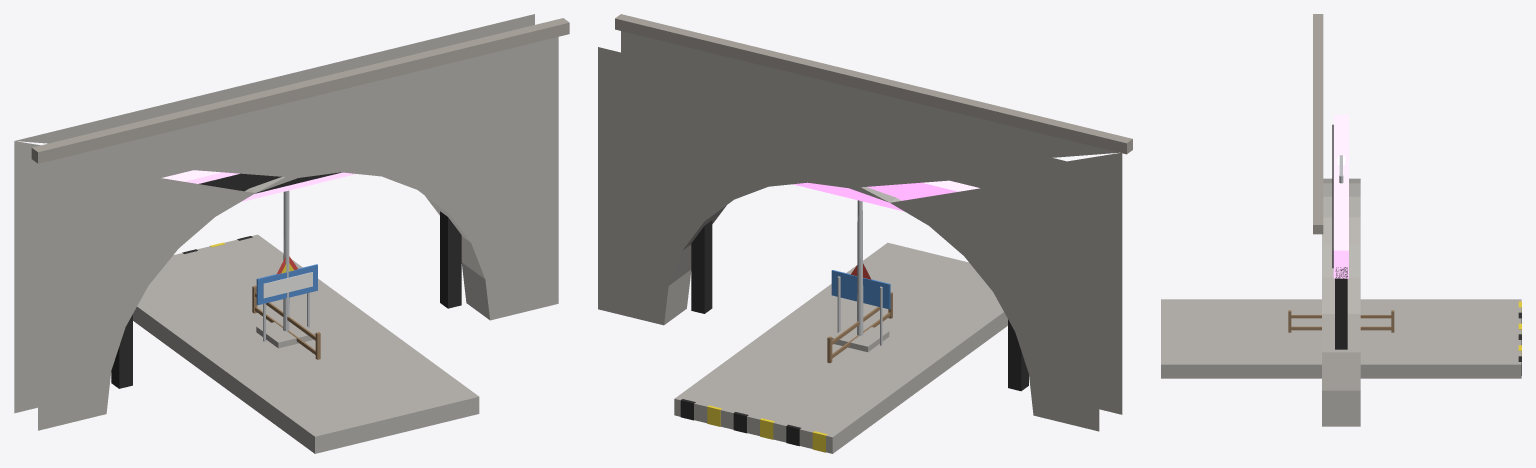
File: kit.glb
3 views of the same model, side by side, from view 1: azimuth 30°, elevation 25°; view 2: azimuth 150°, elevation 25°; view 3: azimuth 270°, elevation 25° (orthographic). The views are drawn at different scales.
Visible parts, largest first — view 1: TunnelPortal, JumpRamp, EventGate, SignGas, BridgePillar, Fence, StreetLamp; view 2: TunnelPortal, JumpRamp, EventGate, SignGas, BridgePillar, StreetLamp, Fence; view 3: JumpRamp, TunnelPortal, EventGate, Fence.
Part boxes in pixels (<box>): TunnelPortal: <box>14,14,569,430</box>; JumpRamp: <box>133,234,479,453</box>; EventGate: <box>111,170,461,388</box>; SignGas: <box>256,264,317,341</box>; BridgePillar: <box>256,317,315,348</box>; Fence: <box>252,285,320,359</box>; StreetLamp: <box>283,190,289,331</box>; TunnelPortal: <box>598,14,1132,431</box>; JumpRamp: <box>674,242,1007,453</box>; EventGate: <box>691,180,1028,391</box>; SignGas: <box>831,270,890,345</box>; BridgePillar: <box>832,322,889,352</box>; StreetLamp: <box>857,200,863,335</box>; Fence: <box>827,292,892,363</box>; JumpRamp: <box>1161,299,1521,378</box>; TunnelPortal: <box>1313,14,1360,426</box>; EventGate: <box>1332,114,1348,349</box>; Fence: <box>1288,310,1394,332</box>.
Bounding box in the file's own units: 19.4 × 10.12 × 14.01.
